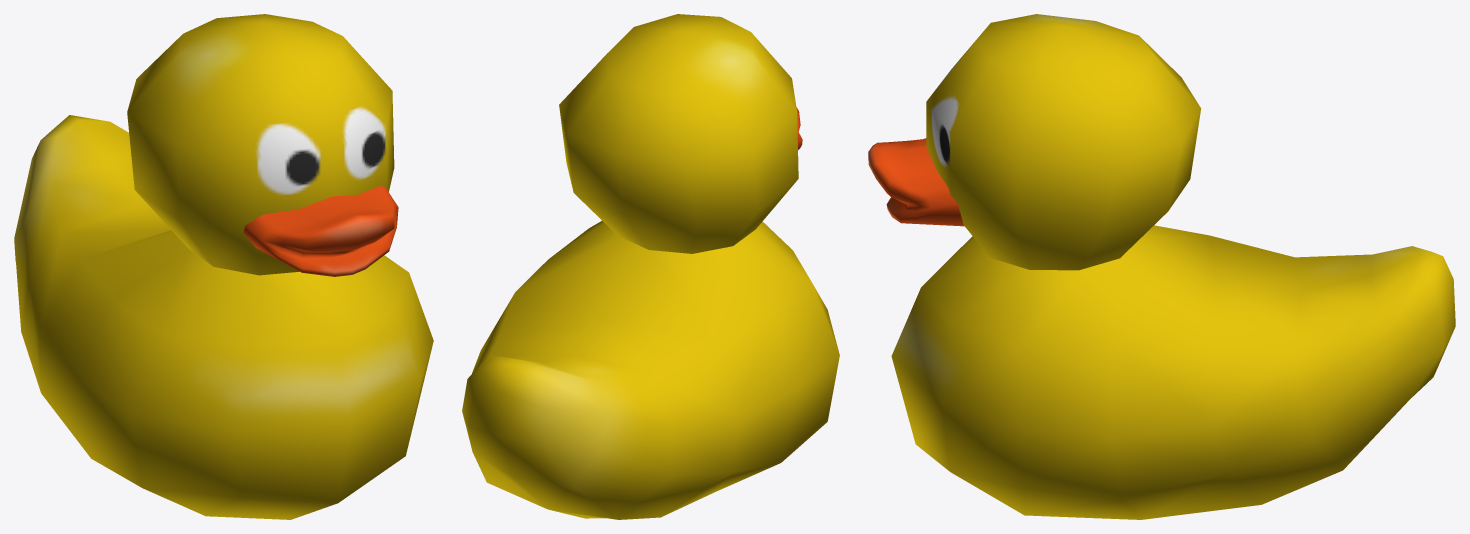
File: RubberDuck.FBX
3 views of the same model, side by side, from view 1: azimuth 30°, elevation 25°; view 2: azimuth 150°, elevation 25°; view 3: azimuth 270°, elevation 25° (orthographic). The views are drawn at different scales.
Parts seen in each view (by area): view 1: RubberDuck; view 2: RubberDuck; view 3: RubberDuck.
Boxes of the visible parts, <box> form: RubberDuck: <box>14,14,433,519</box>; RubberDuck: <box>462,14,839,519</box>; RubberDuck: <box>868,14,1455,519</box>.
Bounding box in the file's own units: 18.61 × 26.66 × 29.99.
